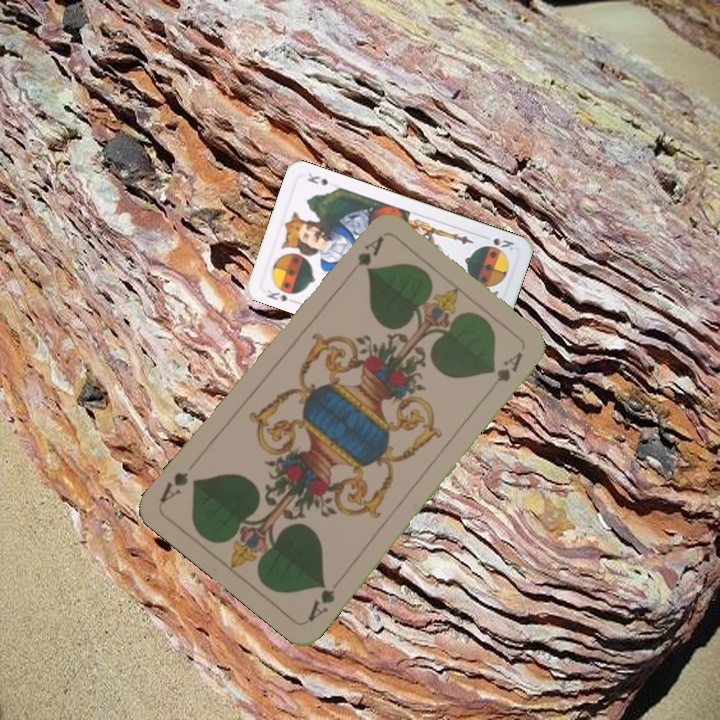GA: (303, 579, 338, 625), (353, 232, 386, 269)
SK: (263, 283, 300, 304), (489, 234, 517, 253)
